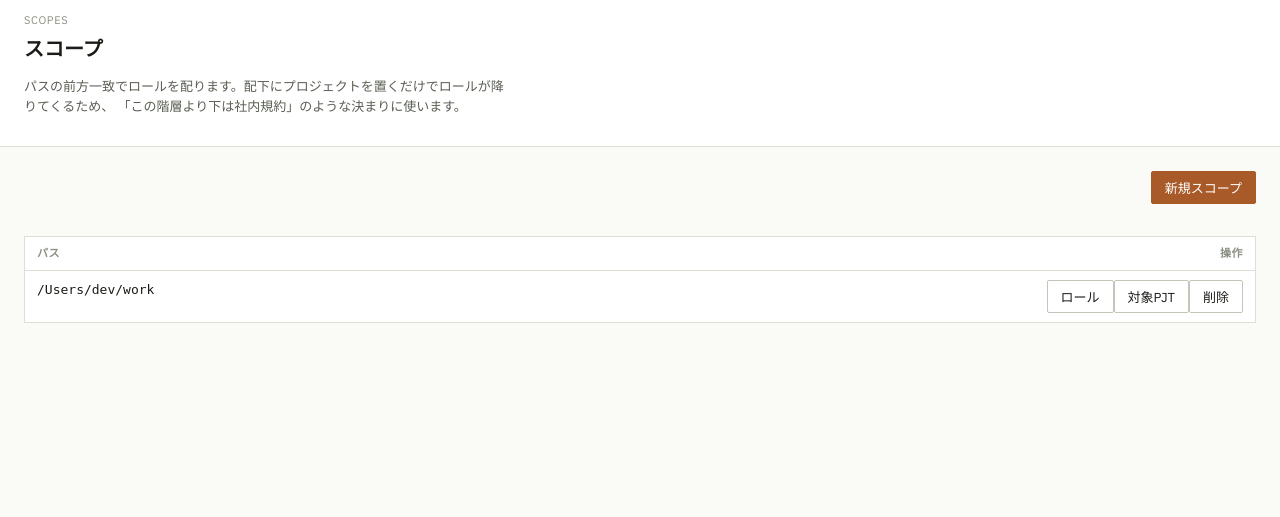
Scenario: Scopes › marks a reached project that is excluded
Click the button "対象PJT".
click(1151, 297)  # box top-left (1114, 280), bottom-right (1189, 313)
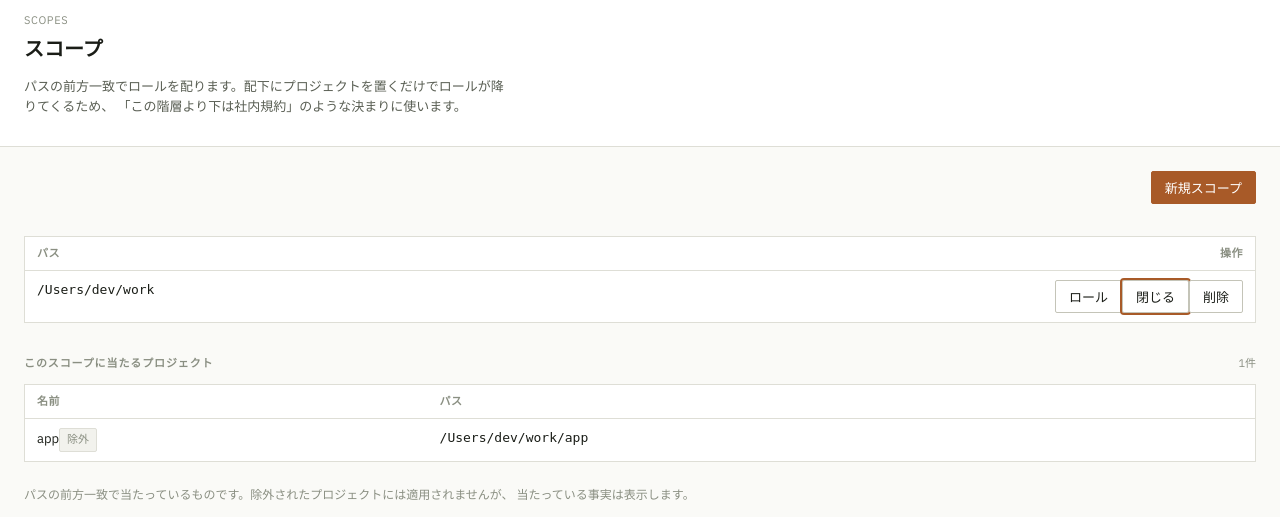
Check: the text "除外" is shown, box top-left (59, 428), bottom-right (97, 452)
